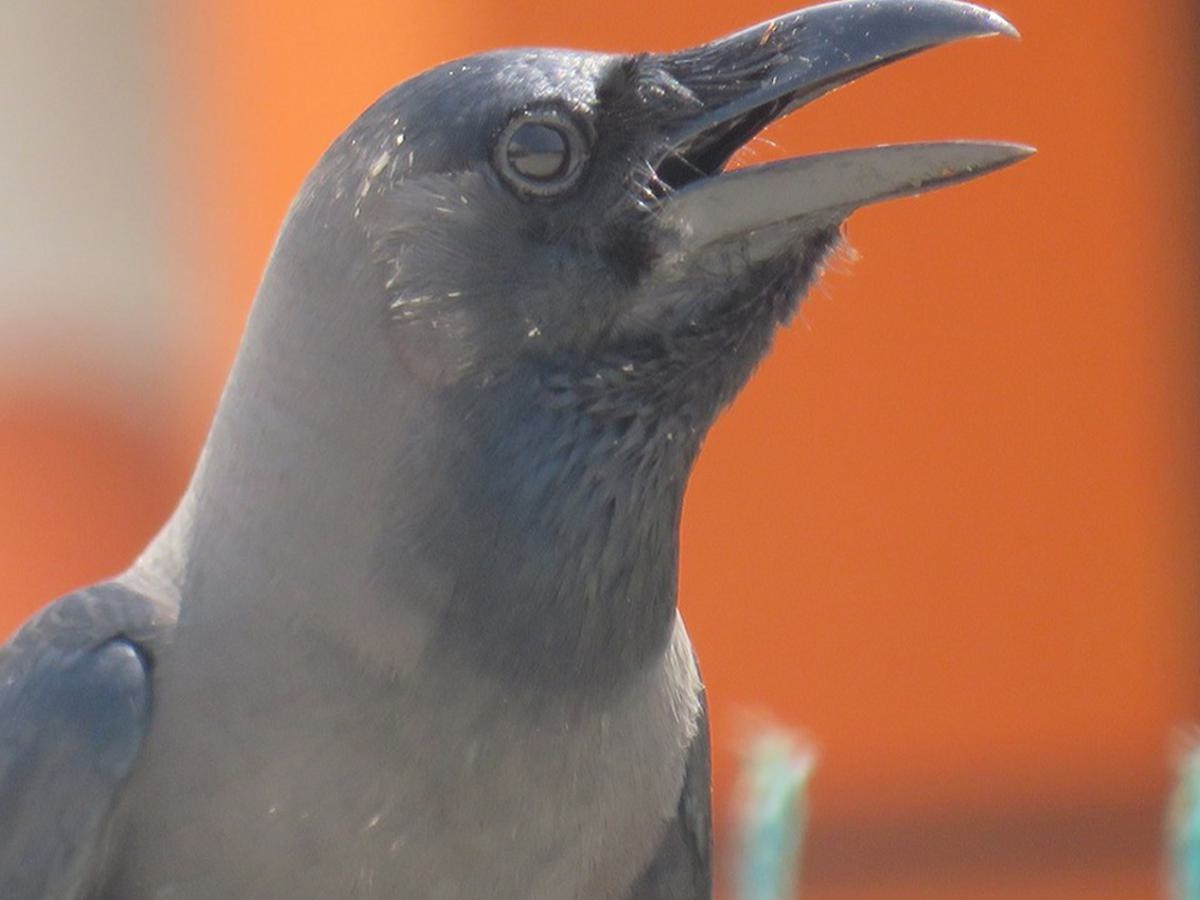crow: (1, 1, 1057, 900)
